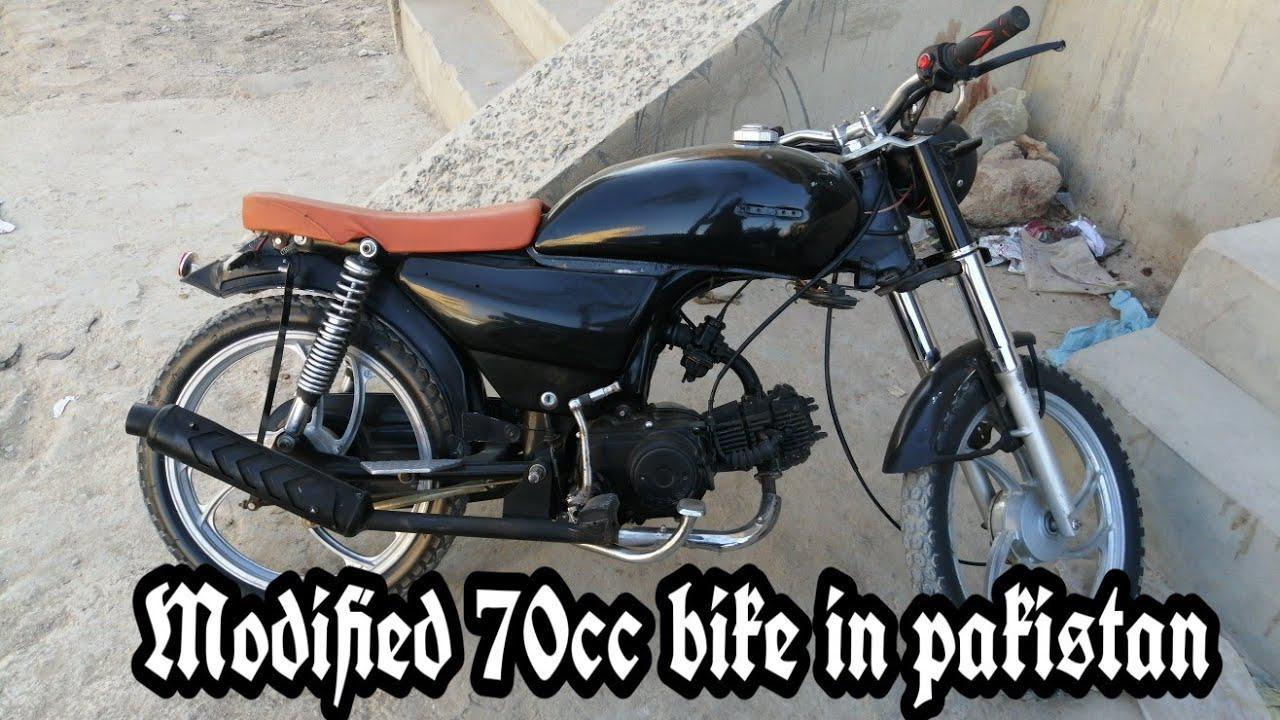bike: (119, 1, 1170, 577)
